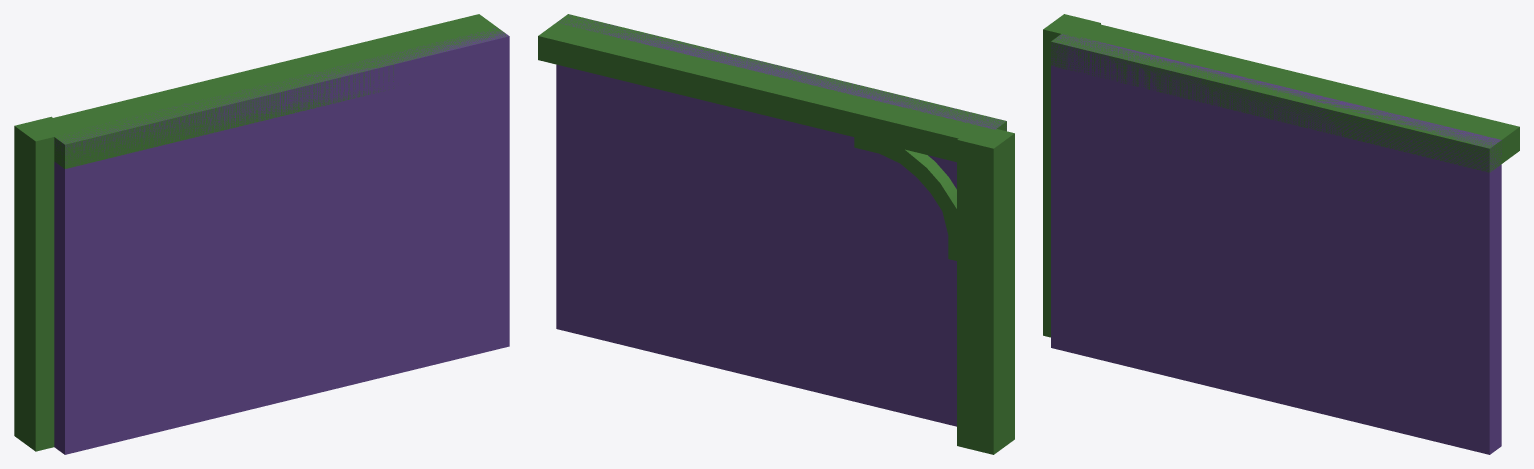
The model's file is RightCorner.fbx.
3 views of the same model, side by side, from view 1: azimuth 30°, elevation 25°; view 2: azimuth 150°, elevation 25°; view 3: azimuth 330°, elevation 25° (orthographic).
Parts seen in each view (by area): view 1: Wall2, Rafter1, Pillar1; view 2: Wall2, Rafter1, Pillar1, WallDecor2; view 3: Wall2, Rafter1, Pillar1.
Part boxes in pixels (x1,y1,x2,y2): Wall2: (54, 28, 509, 454); Rafter1: (35, 14, 508, 168); Pillar1: (14, 116, 65, 451); Wall2: (556, 15, 1006, 426); Rafter1: (538, 14, 1006, 162); Pillar1: (957, 124, 1014, 454); WallDecor2: (854, 137, 956, 260); Wall2: (1051, 34, 1501, 454); Rafter1: (1051, 19, 1519, 172); Pillar1: (1043, 14, 1100, 337).
Size of the model in its own units: 12.5 by 8 by 1.5.
